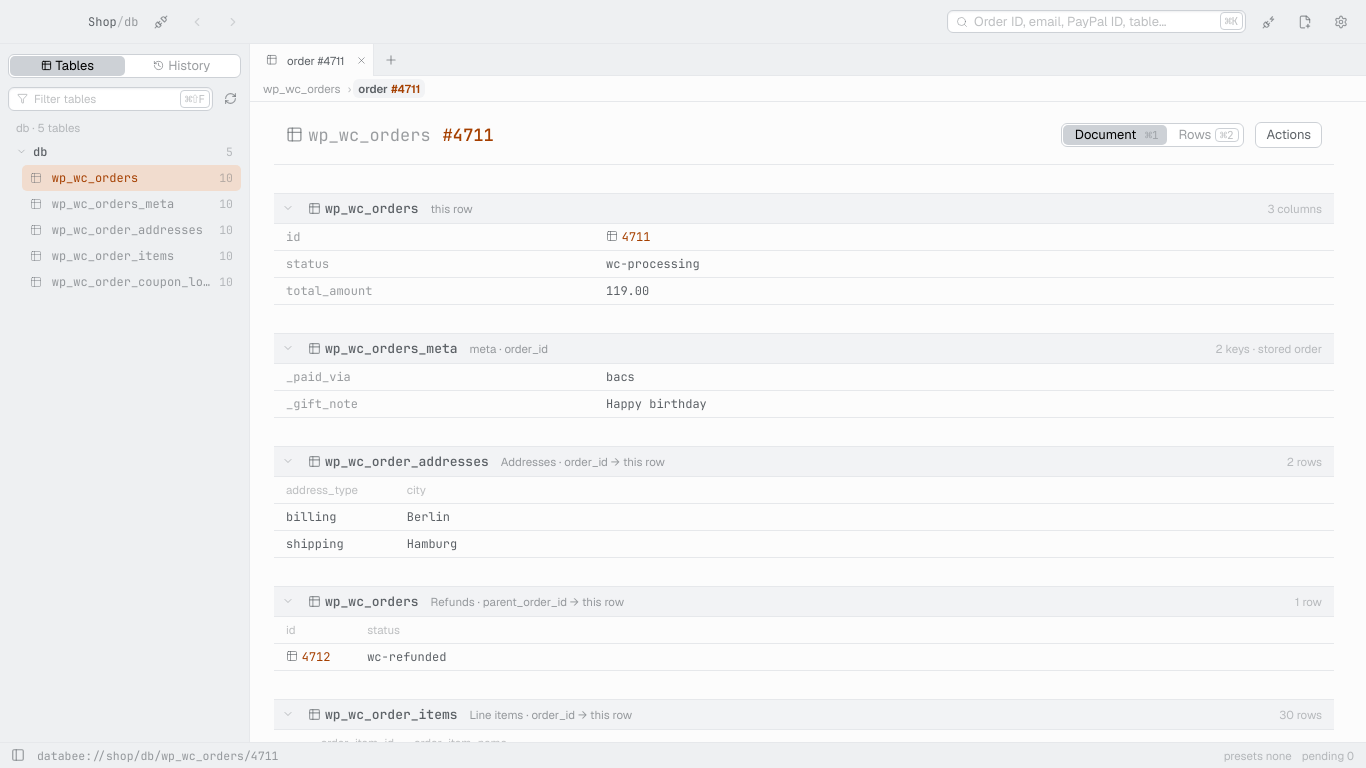
Test: collapsible object sections › Document view › brings the rows back on Expand
Expected: the element named "Databases" is shown, [16, 144, 241, 290]
Expected: the element named "Object header" is shown, [274, 102, 1334, 165]
Click the button named "Collapse wp_wc_orders_meta".
click(288, 348)  # box [280, 340, 296, 356]
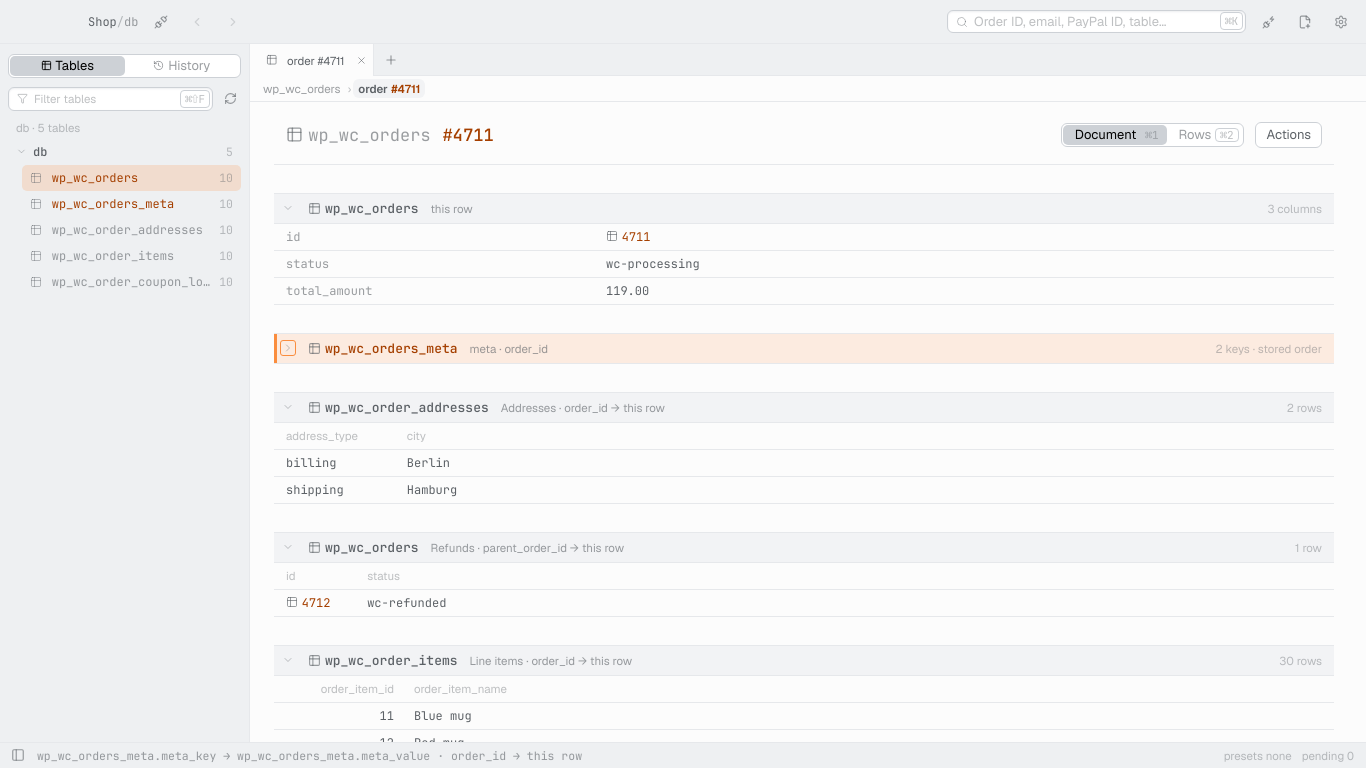
Click the button named "Expand wp_wc_orders_meta".
click(288, 348)  # box [280, 340, 296, 356]
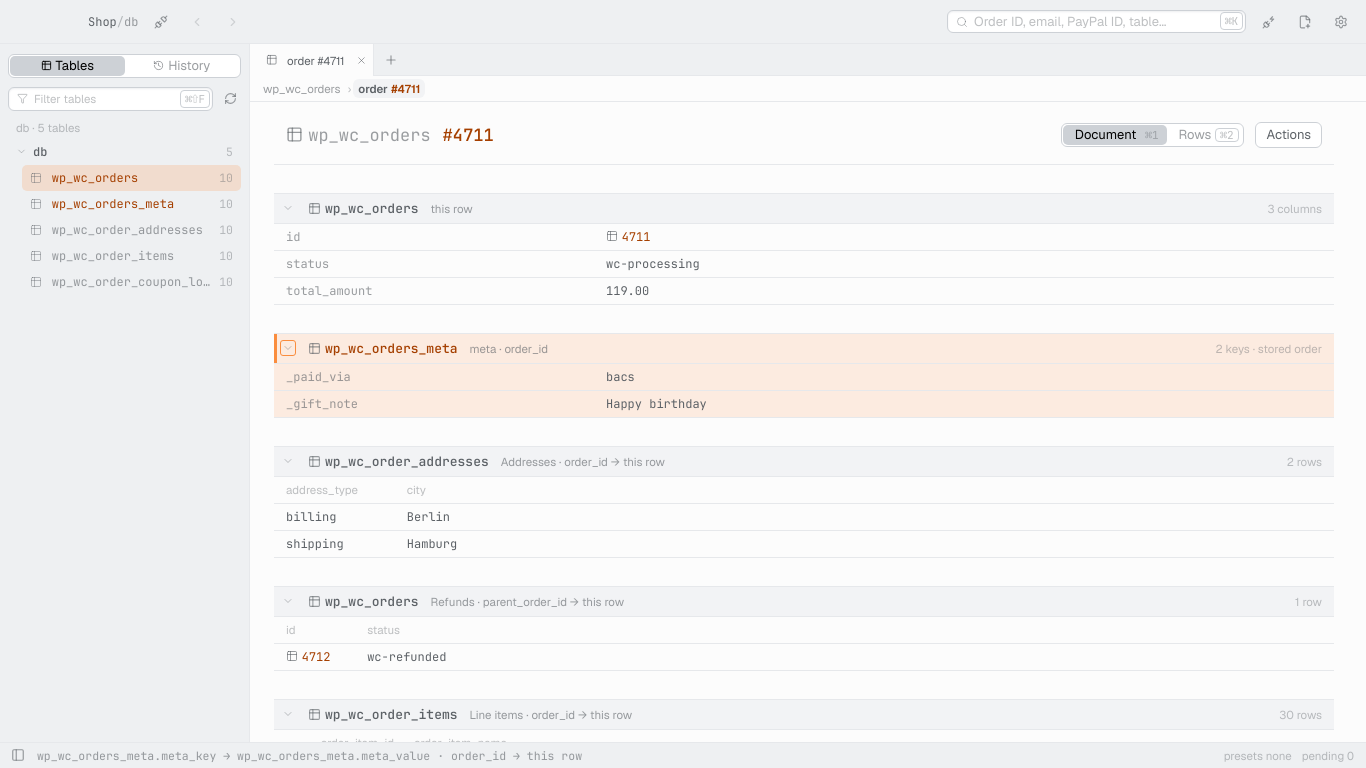
Expected: the text "bacs" is shown, [606, 369, 635, 385]
